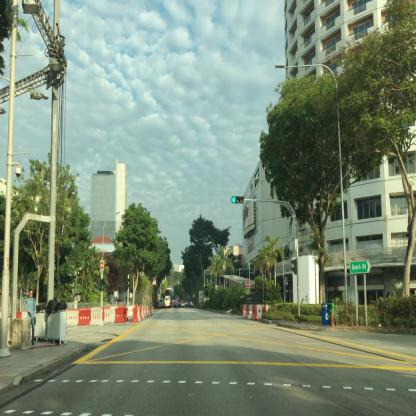green_traffic_light: (231, 196, 243, 203)
